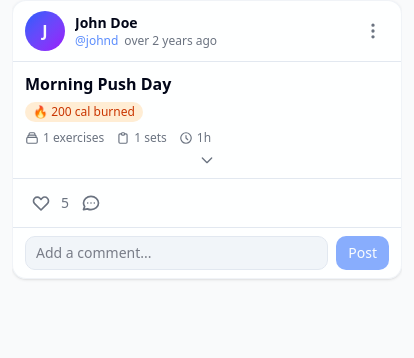
Test: FeedWorkoutCard › cardio display › should show calories in expanded view for HIIT workouts
# Expand the workout
Step 1. Click the heading "Morning Push Day" → click(98, 84), box [25, 73, 171, 95]
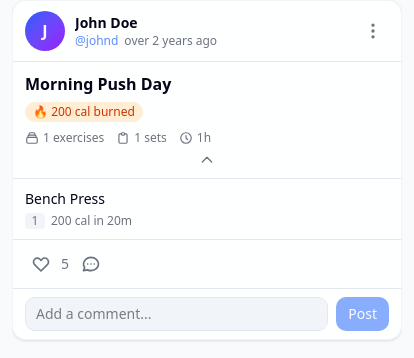
Now the text "200 cal in 20m" is shown, box [51, 213, 132, 229]
